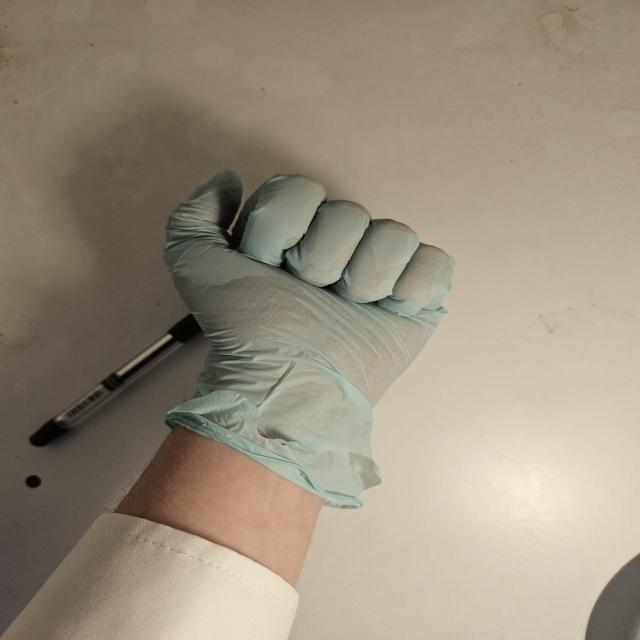gloves_damaged: (160, 164, 459, 507)
